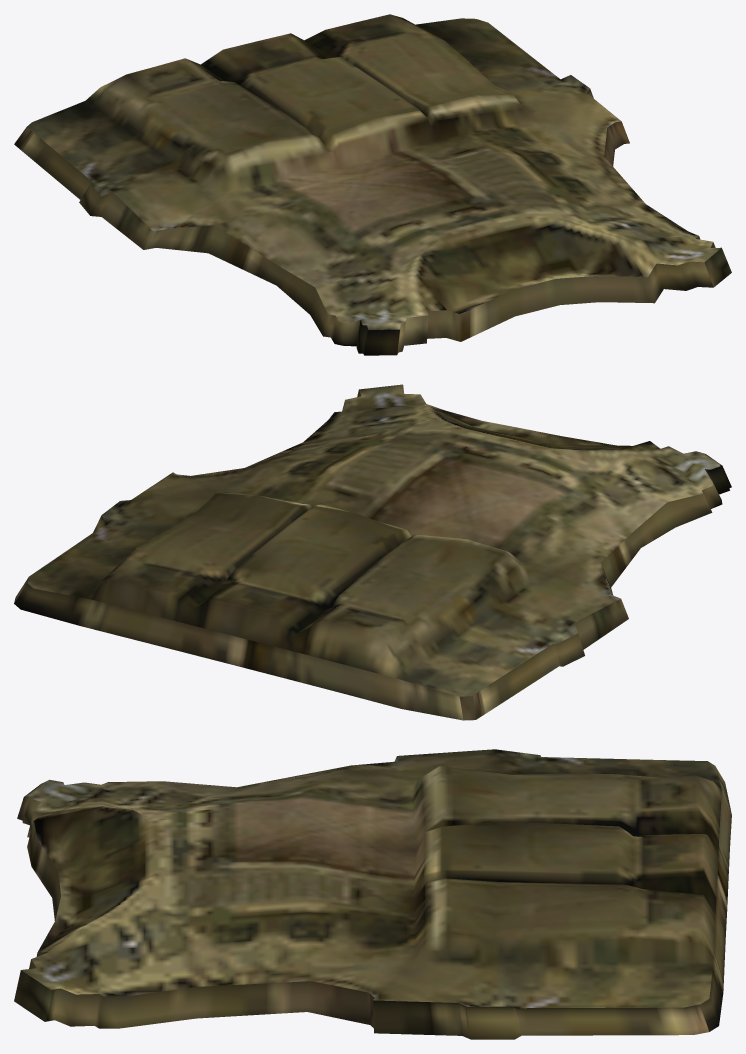
The model's file is Pickup_VestsC.glb.
The picture shows the model from 3 angles, top to bottom: view 1: azimuth 30°, elevation 25°; view 2: azimuth 150°, elevation 25°; view 3: azimuth 270°, elevation 25°; orthographic projection. The views are drawn at different scales.
Parts seen in each view (by area): view 1: pk_vests_c; view 2: pk_vests_c; view 3: pk_vests_c.
Part boxes in pixels (left/top/right/bottom): pk_vests_c: left=14, top=14, right=731, bottom=355; pk_vests_c: left=14, top=384, right=731, bottom=720; pk_vests_c: left=14, top=749, right=731, bottom=1039.
Size of the model in its own units: 0.6957 by 0.1048 by 0.7815.
1 material, 1 textured.
